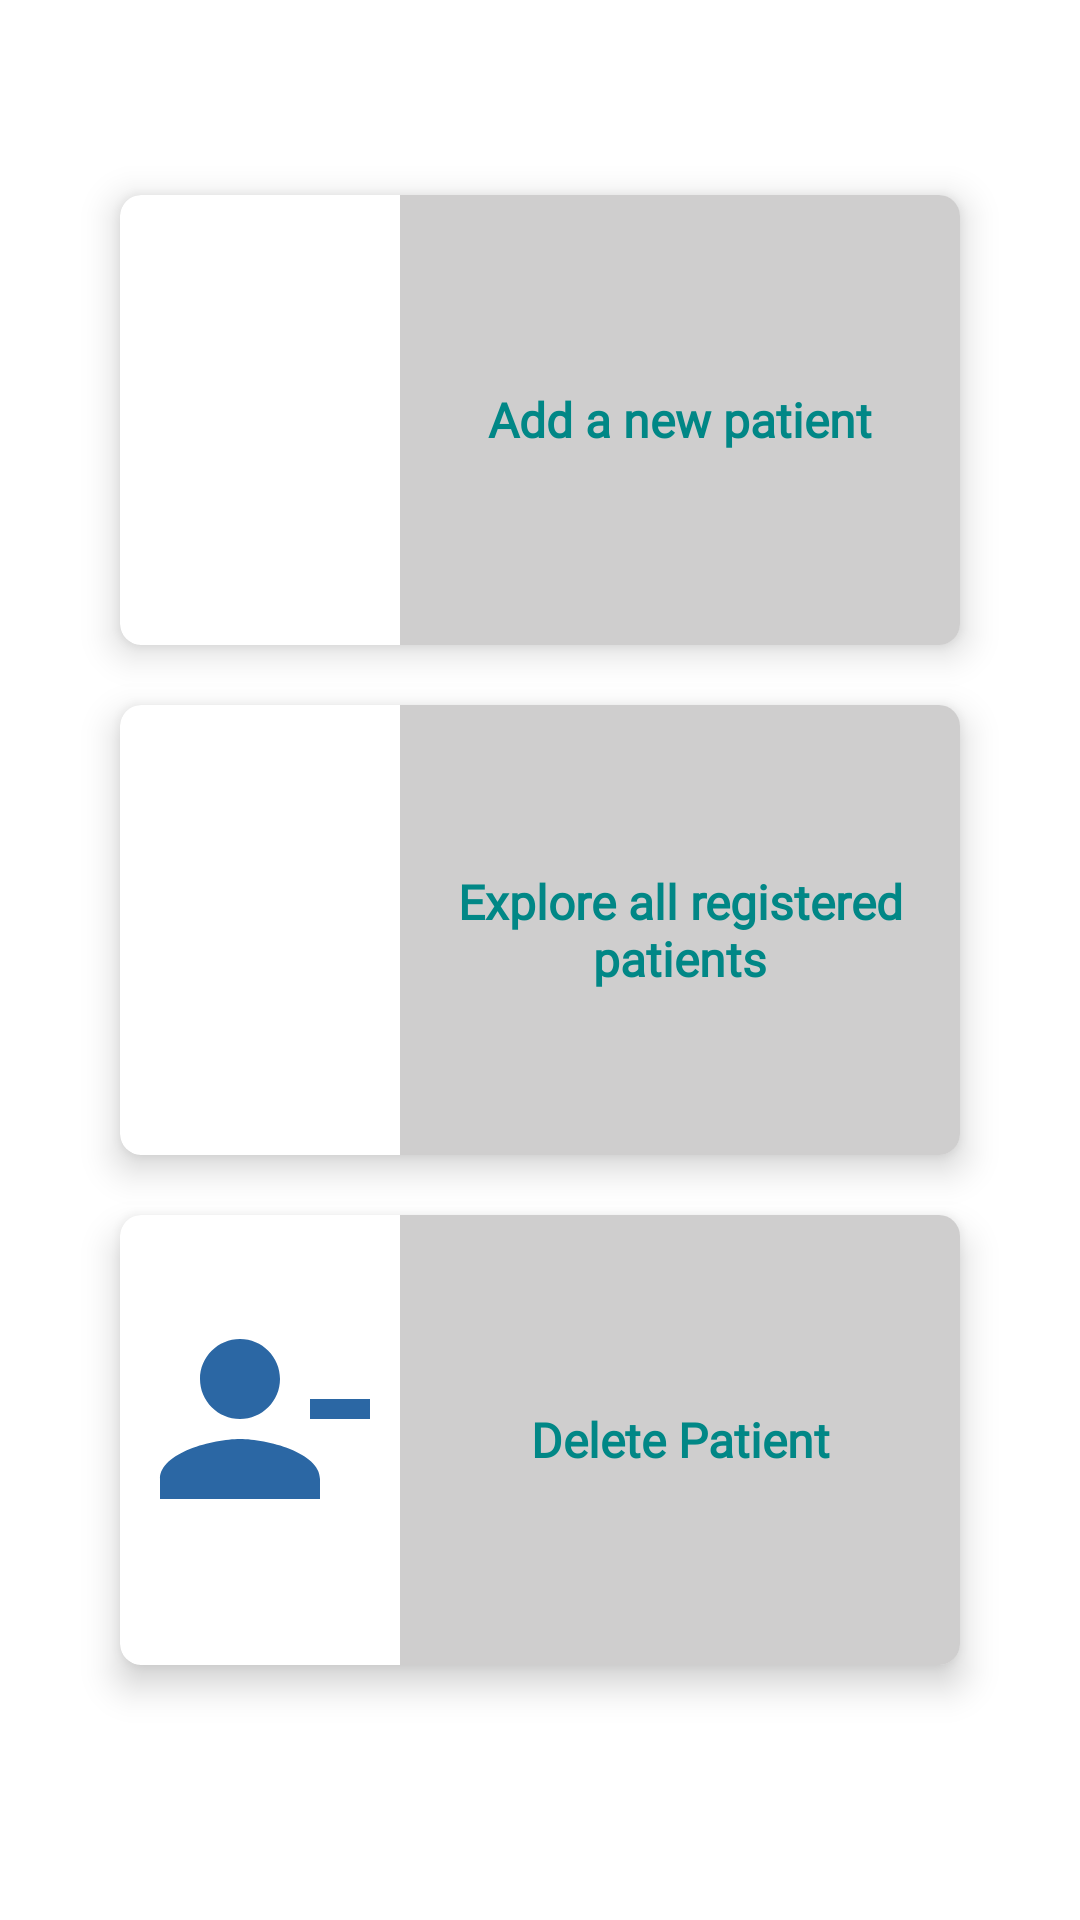

Icons on this 1080*1920 Android screen, each with the point to tap as [x,y]:
person remove: [265,1419]
